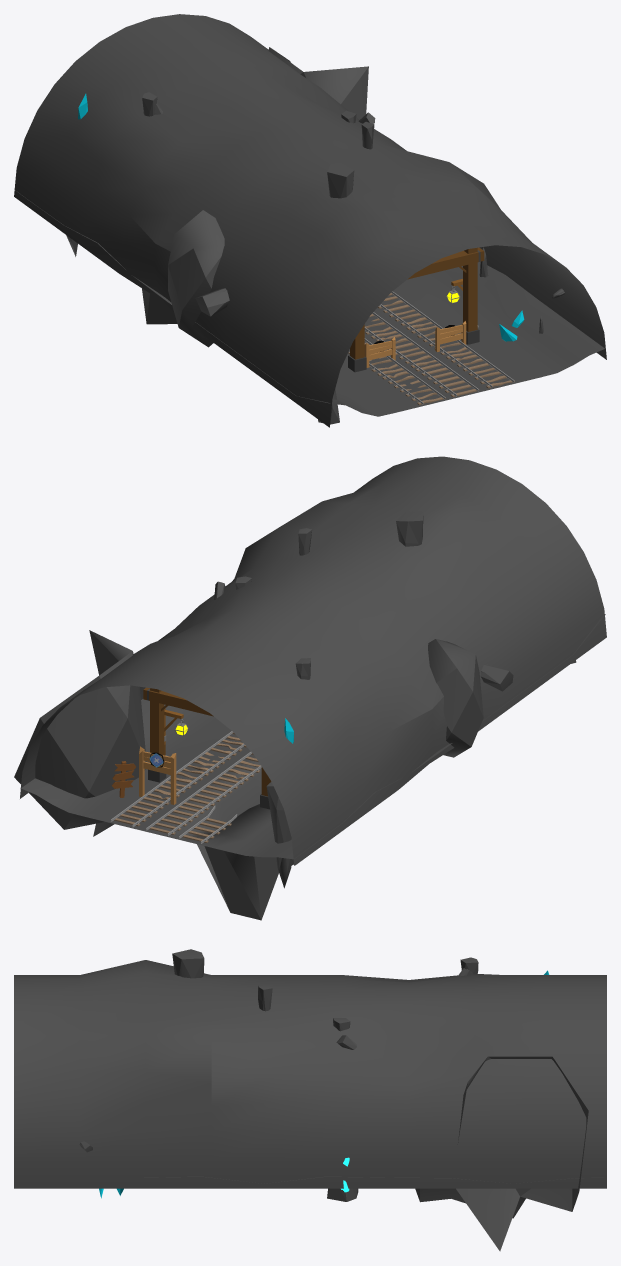
Rendered from Modulo Obstaculo 1.fbx.
3 views of the same model, one above another, from view 1: azimuth 30°, elevation 25°; view 2: azimuth 150°, elevation 25°; view 3: azimuth 270°, elevation 25° (orthographic). The views are drawn at different scales.
Parts seen in each view (by area): view 1: Plane.004; view 2: Plane.004; view 3: Plane.004.
Boxes of the visible parts, bbox=[...] form: Plane.004: bbox=[14, 14, 606, 427]; Plane.004: bbox=[14, 456, 606, 920]; Plane.004: bbox=[14, 949, 606, 1251].
Size of the model in its own units: 2716 by 2303 by 4761.
